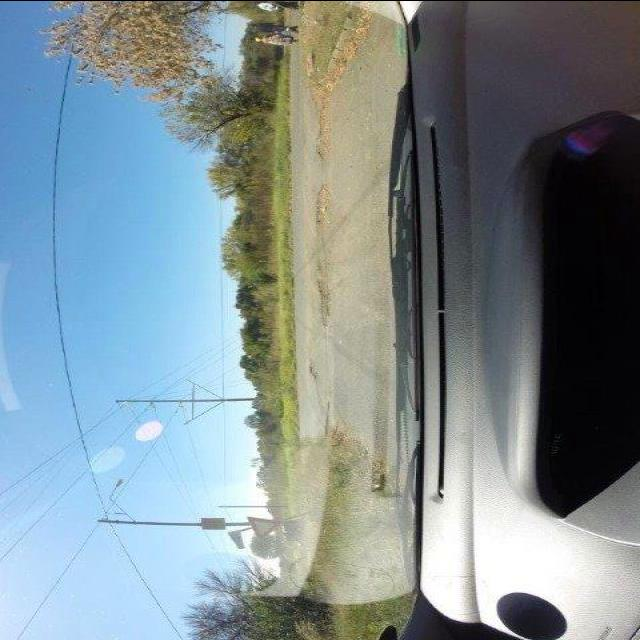lubang: (312, 252, 338, 326), (314, 97, 338, 159), (312, 178, 332, 230), (292, 80, 336, 100), (304, 356, 320, 379)
